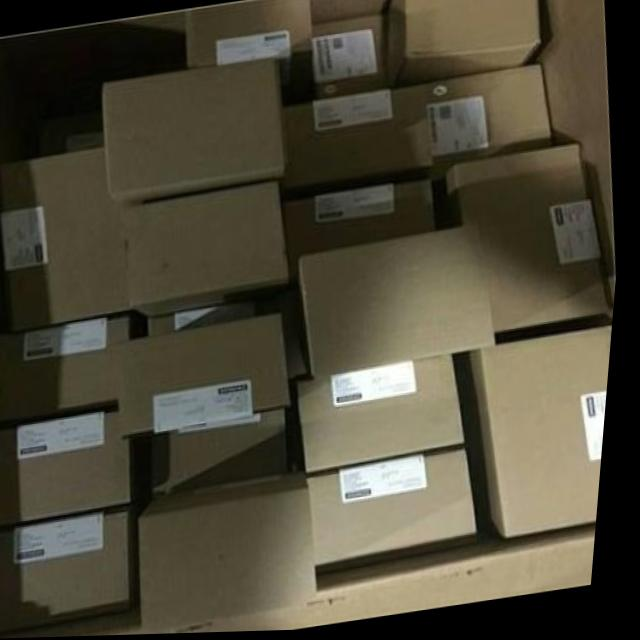box: (447, 146, 615, 336), (470, 329, 618, 543), (304, 224, 502, 380), (149, 471, 329, 636), (104, 56, 288, 202), (0, 146, 138, 333), (128, 180, 294, 319), (311, 448, 486, 576), (127, 315, 297, 438), (305, 358, 473, 473), (0, 506, 140, 639), (0, 407, 139, 529), (280, 85, 432, 194), (0, 317, 133, 432), (384, 0, 541, 92), (422, 66, 555, 173), (282, 172, 438, 263), (184, 0, 314, 107), (159, 409, 293, 493), (311, 15, 388, 102), (150, 298, 288, 339)
